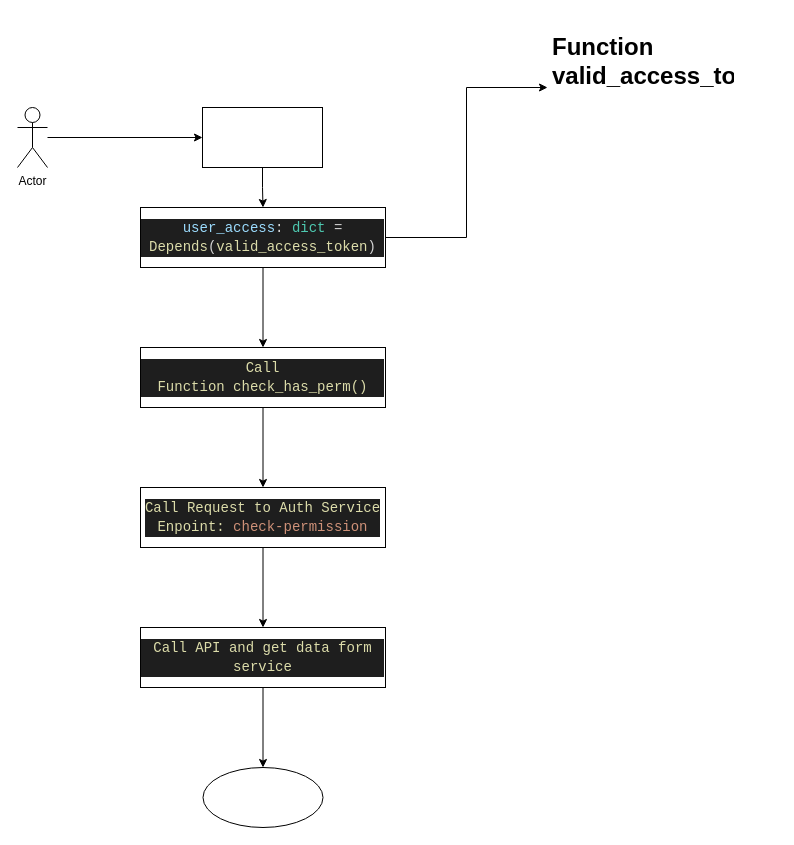
Image size: 794x845. Some labels were removed from this diagram. The box of each missing label's shape, as (x1, y1, x2, y2) in pixels:
End: (202, 766, 323, 828)
Request API: (202, 106, 322, 168)
